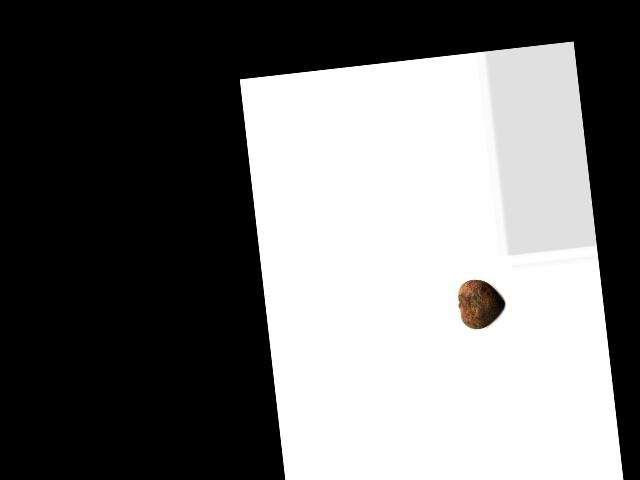beet: (456, 276, 506, 330)
